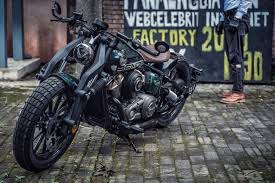motorcycle: (11, 5, 200, 173)
